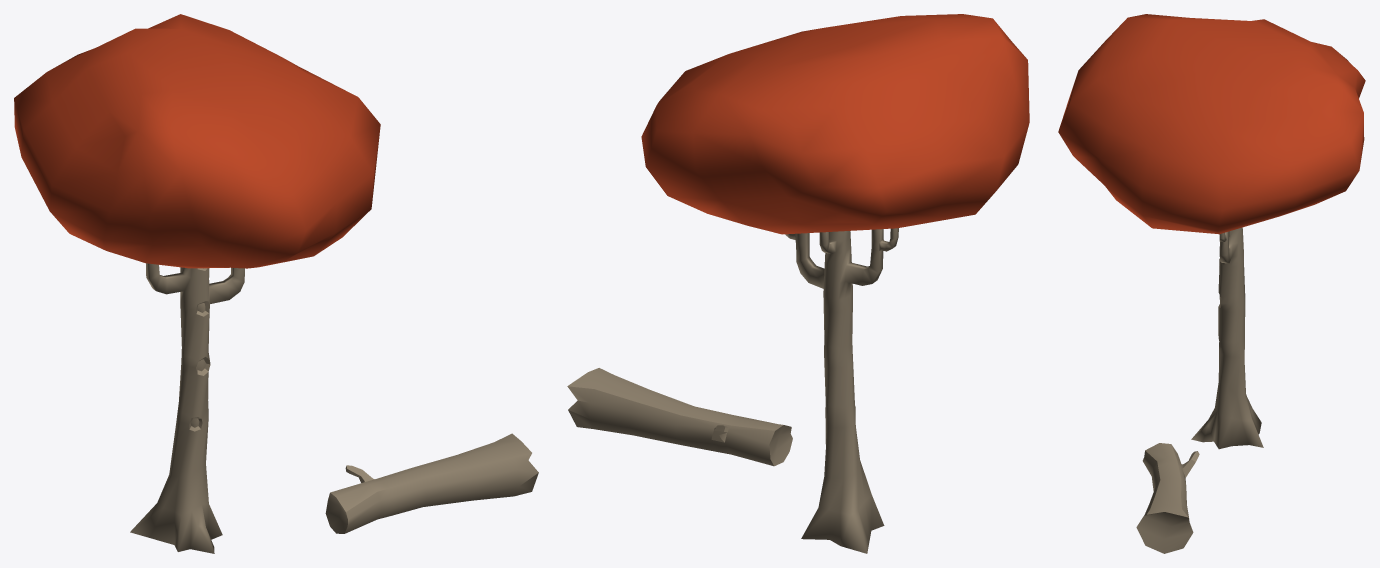
File: Flute Tree Thin + Trunk.fbx
3 renders of one model, left to right at view 1: azimuth 30°, elevation 25°; view 2: azimuth 150°, elevation 25°; view 3: azimuth 270°, elevation 25°, orthographic. The views are drawn at different scales.
Parts seen in each view (by area): view 1: pCube6, pCube5, pCube7; view 2: pCube6, pCube5, pCube7; view 3: pCube6, pCube5, pCube7.
Boxes of the visible parts, <box> form: pCube6: <box>14,14,380,268</box>; pCube5: <box>130,263,244,553</box>; pCube7: <box>325,433,538,533</box>; pCube6: <box>641,14,1029,234</box>; pCube5: <box>785,228,898,553</box>; pCube7: <box>567,368,792,466</box>; pCube6: <box>1058,14,1365,234</box>; pCube5: <box>1191,227,1263,449</box>; pCube7: <box>1136,443,1199,553</box>.
Size of the model in its own units: 26.83 by 28.09 by 19.64.
